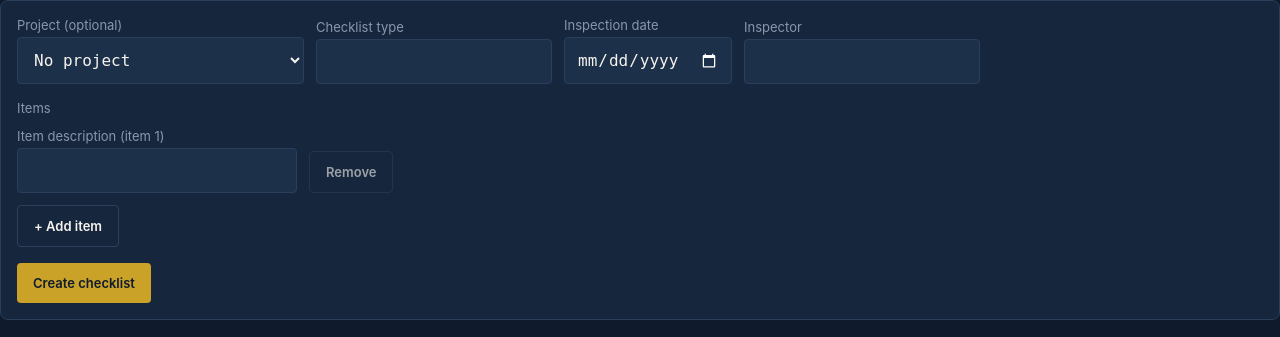
Scenario: CreateInspectionChecklistForm › shows a generic error message when the failure has none
The width and height of the screenshot is (1280, 337).
Type "Scaffolding" into the field labelled "Checklist type". click: (434, 62)
box: top-left (316, 39), bottom-right (552, 84)
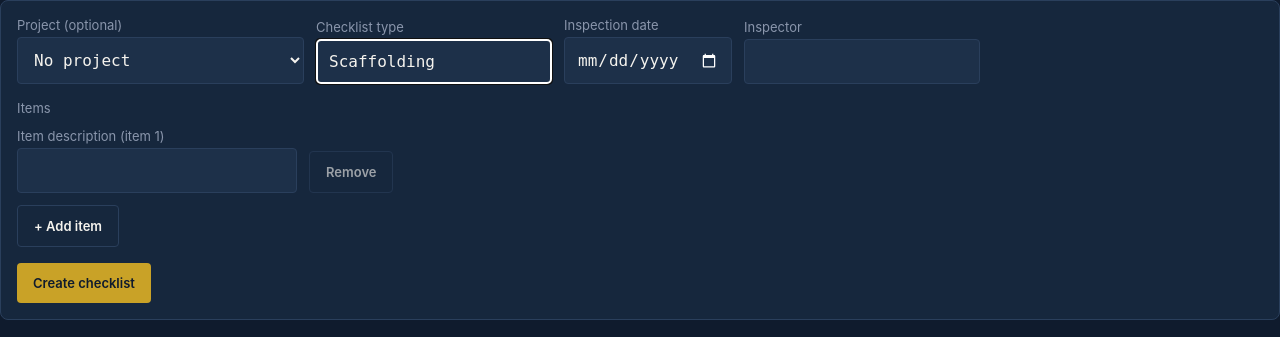
Type "2026-08-01" into the date field labelled "Inspection date". click: (648, 60)
box: top-left (564, 37), bottom-right (732, 84)
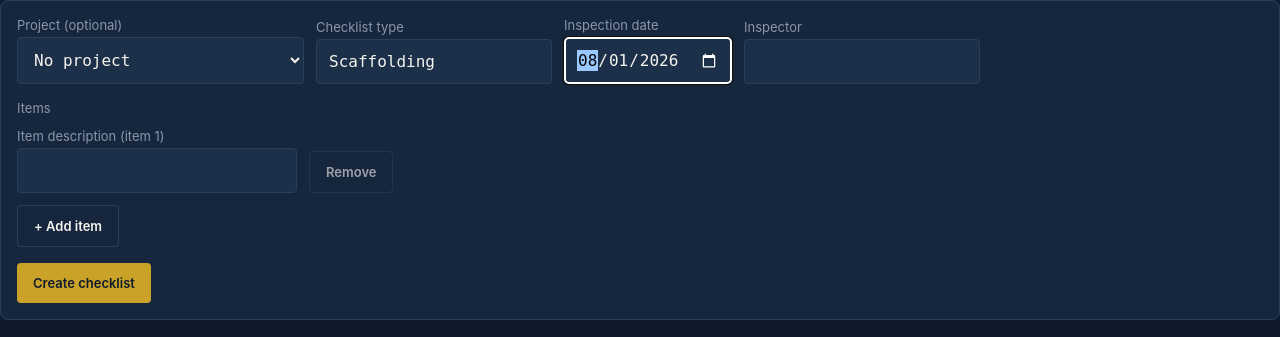
Type "Site Inspector A" into the field labelled "Inspector". click: (862, 62)
box: top-left (744, 39), bottom-right (980, 84)
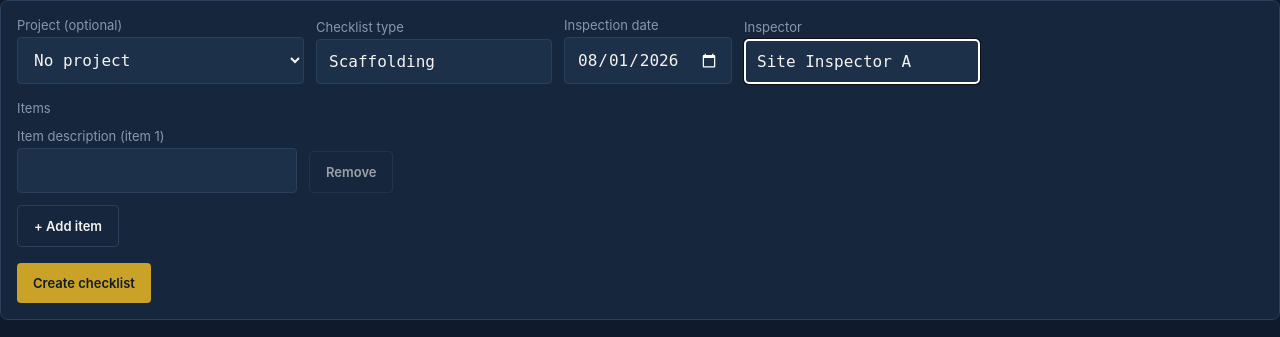
Type "Guardrails secure" into the field labelled "Item description (item 1)". click: (157, 170)
box: top-left (17, 148), bottom-right (297, 193)
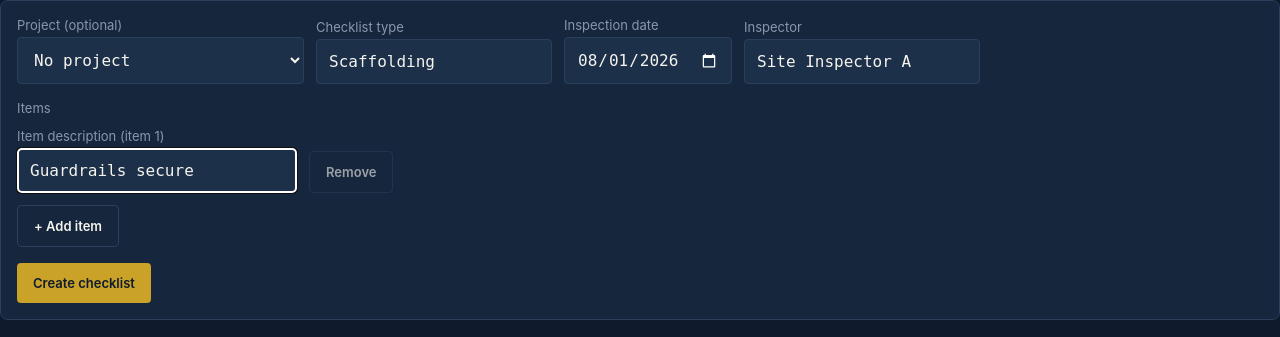
Click the button "Create checklist". click: (84, 283)
box: top-left (17, 263), bottom-right (151, 303)
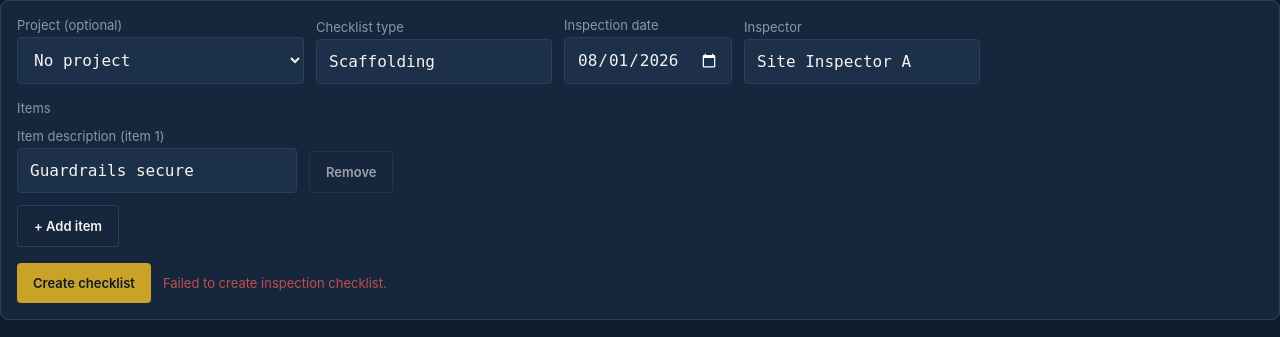
Expected: the text "Failed to create inspection checklist." is shown, top-left (163, 275), bottom-right (387, 291)
